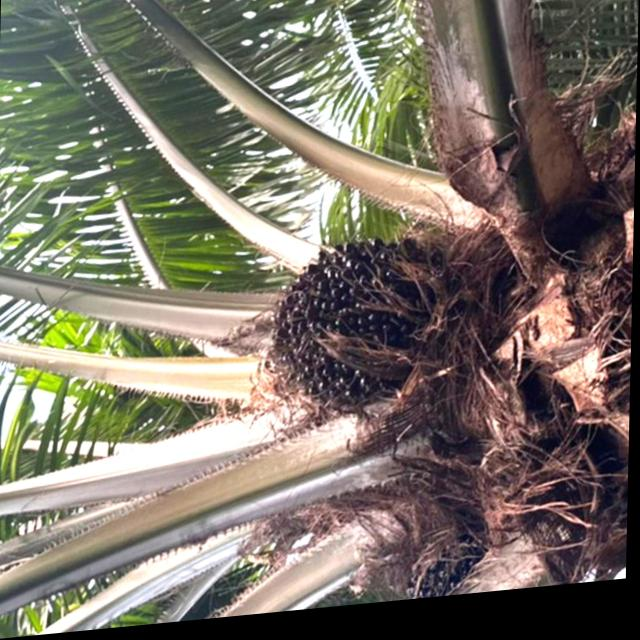almost: (250, 241, 437, 427), (402, 519, 490, 609)
